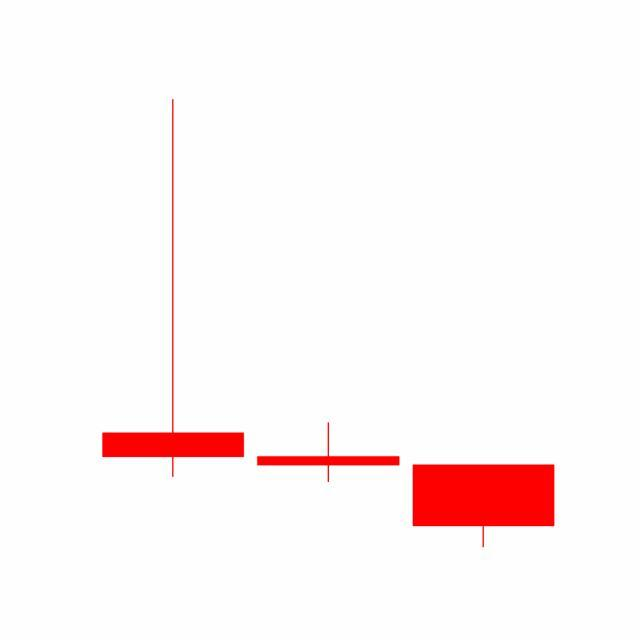Spinning Top: (250, 422, 407, 484)
